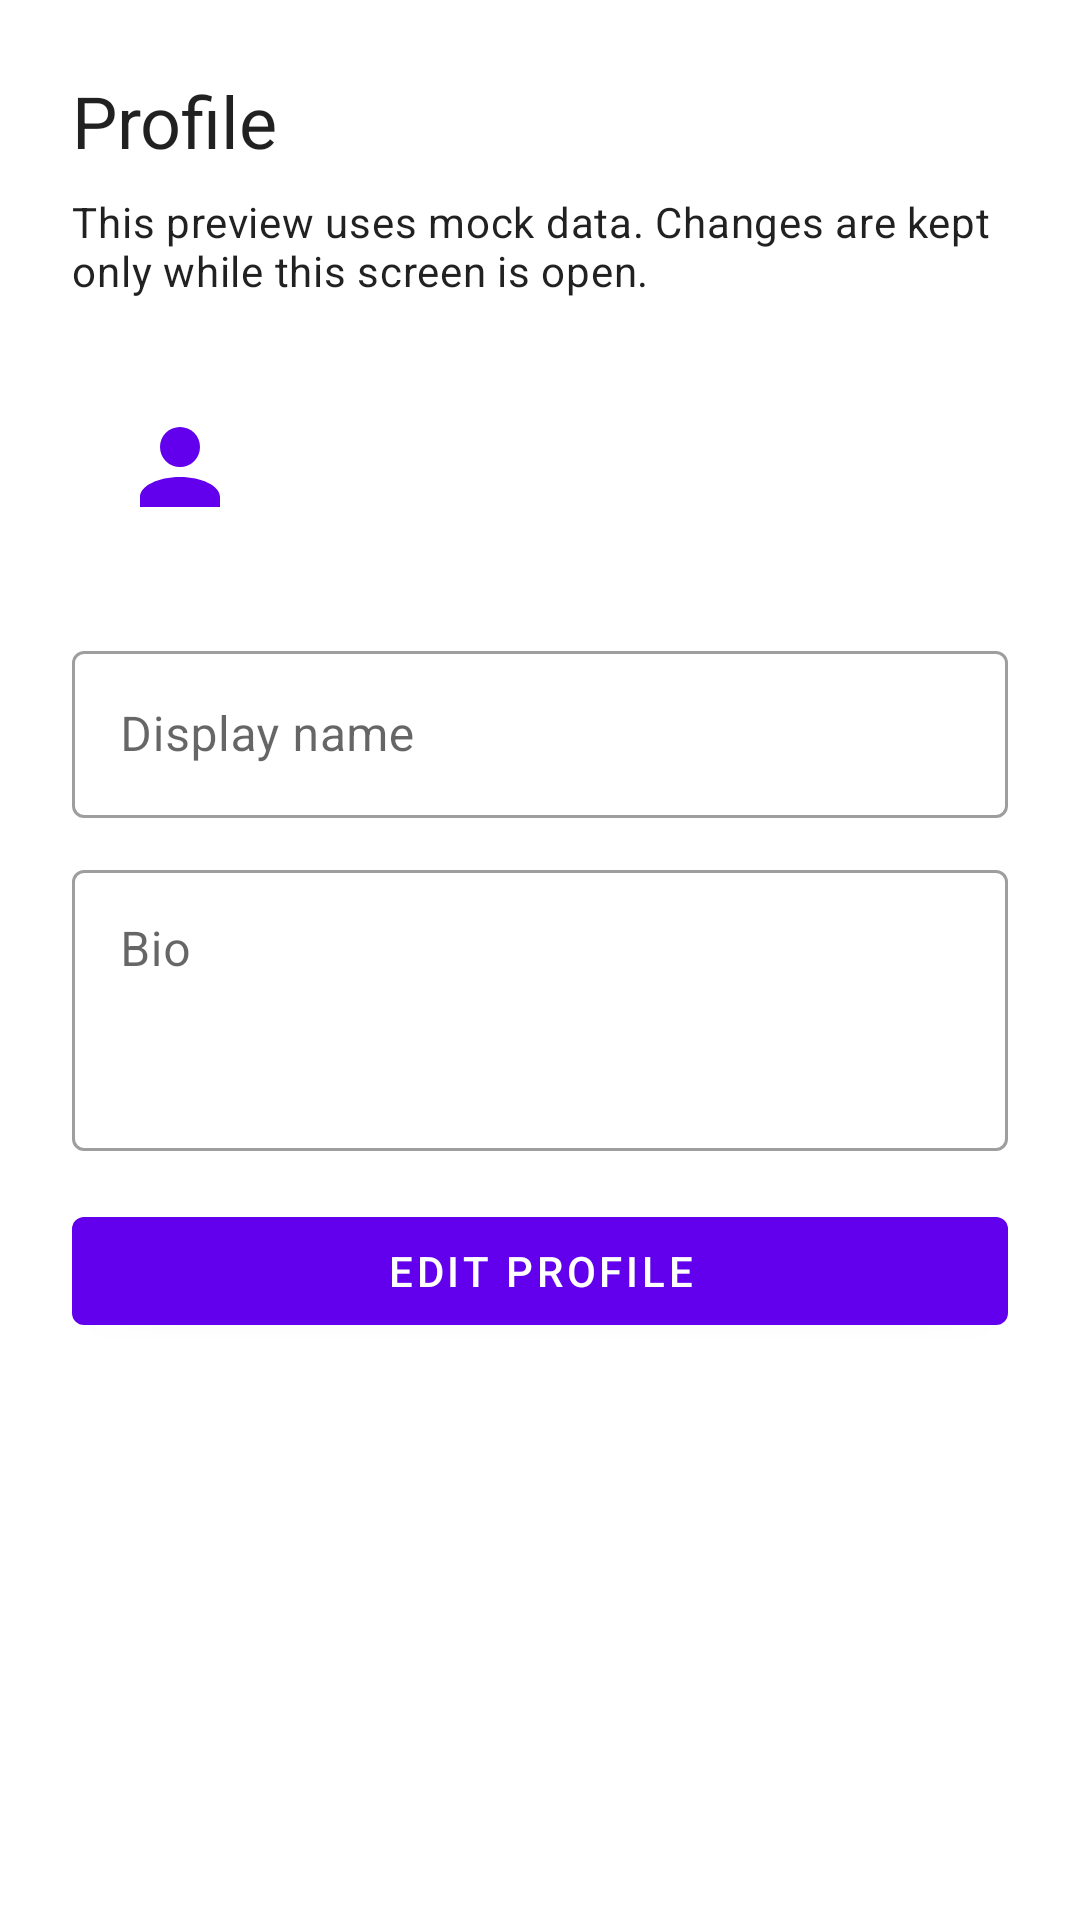

Screen size 1080 x 1920. Icon name, then its box in pixels as (left=x1, top=y1, right=x2, bottom=y2):
Sample avatar: (left=140, top=427, right=220, bottom=507)
